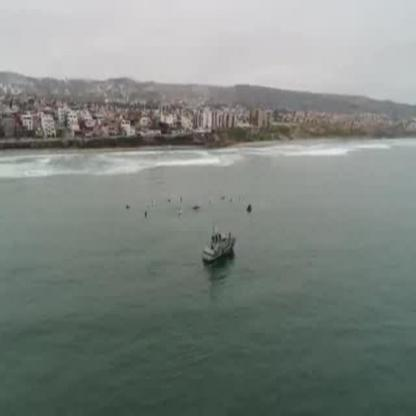Boat: (200, 224, 241, 269)
